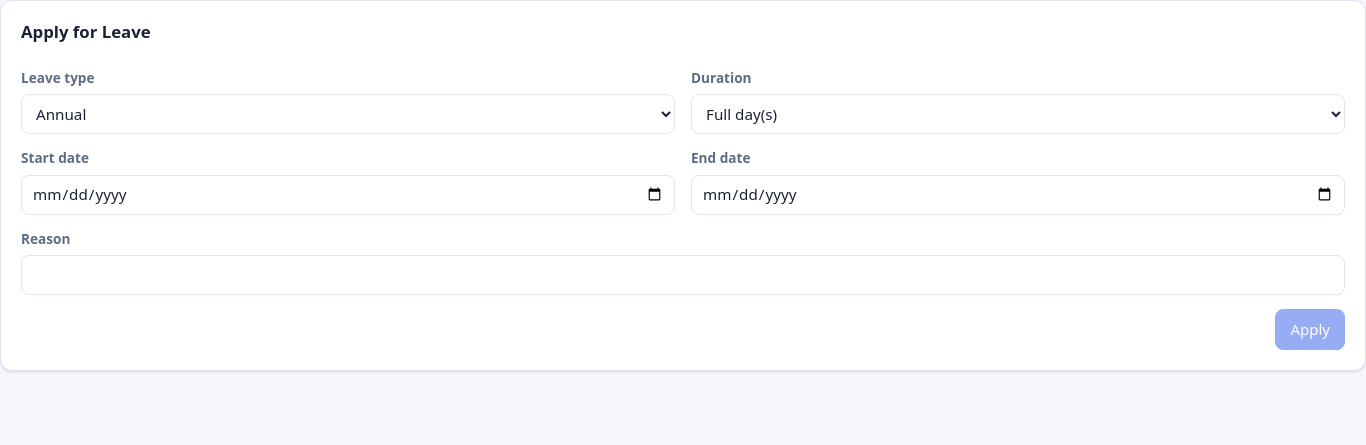
Test: ApplyLeaveForm › an end date before the start date keeps submit disabled and explains why
The image size is (1366, 445).
Type "2026-03-06" into the date field labelled "Start date" at (348, 195), box [21, 175, 675, 215]
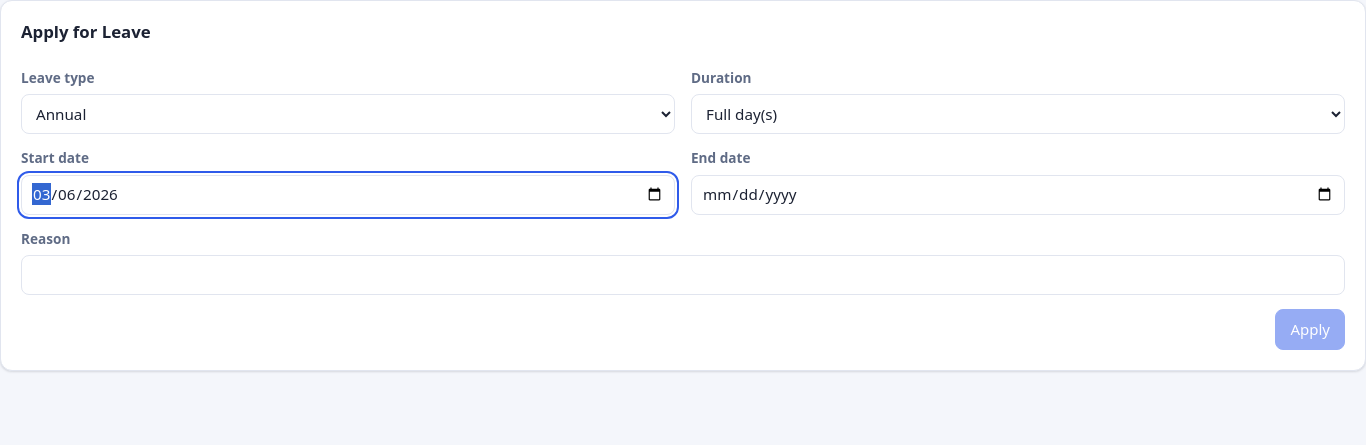
Type "2026-03-02" into the date field labelled "End date" at (1018, 195), box [691, 175, 1345, 215]
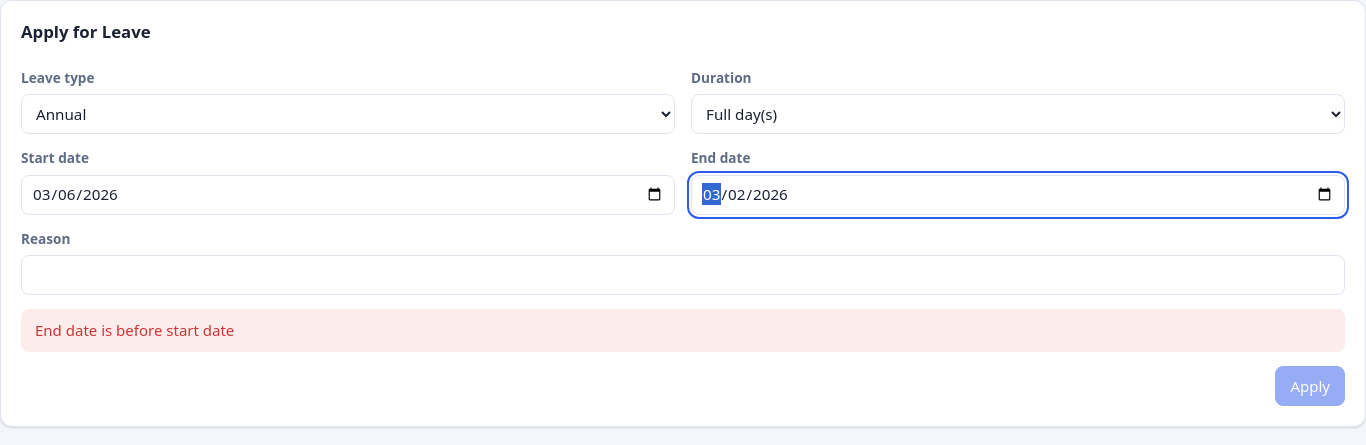
Expected: the button "Apply" is disabled, [1275, 366, 1345, 406]
Expected: the message shows "before start date", [35, 320, 234, 340]
